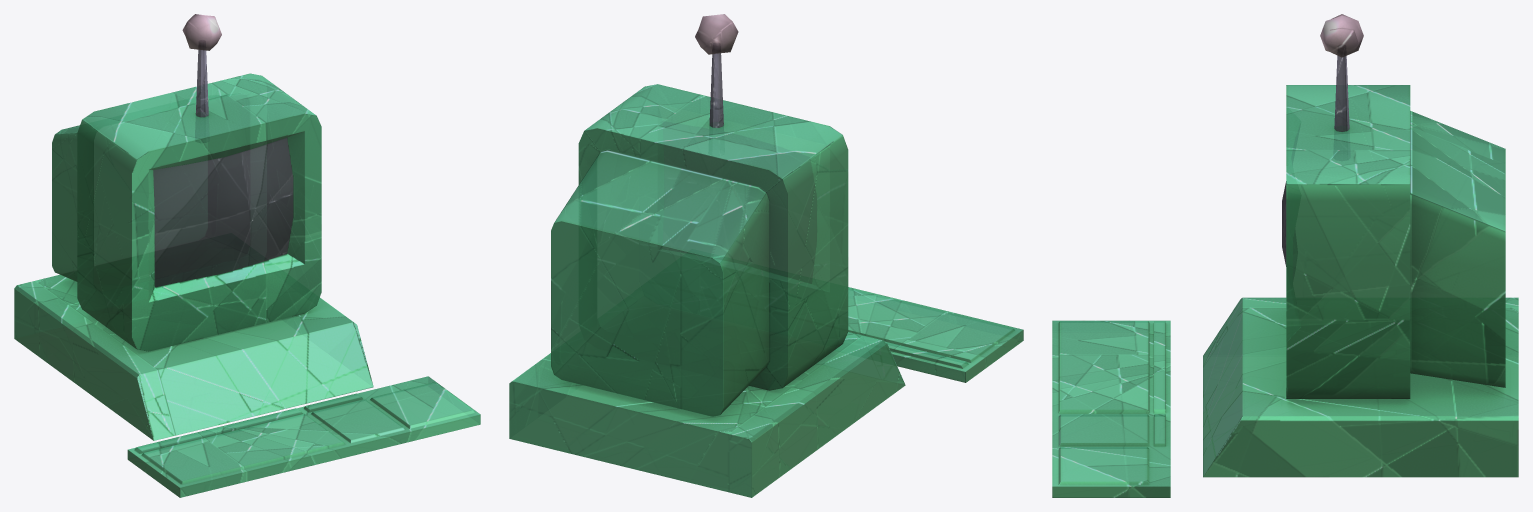
The model's file is MD_desktop.fbx.
3 views of the same model, side by side, from view 1: azimuth 30°, elevation 25°; view 2: azimuth 150°, elevation 25°; view 3: azimuth 270°, elevation 25° (orthographic). The views are drawn at different scales.
Visible parts, largest first — view 1: pCube59; view 2: pCube59; view 3: pCube59.
Boxes of the visible parts, x1,y1,x2,y2 form: pCube59: (14, 14, 480, 497); pCube59: (509, 14, 1023, 497); pCube59: (1052, 14, 1518, 497).
Bounding box in the file's own units: 102 × 115 × 121.
